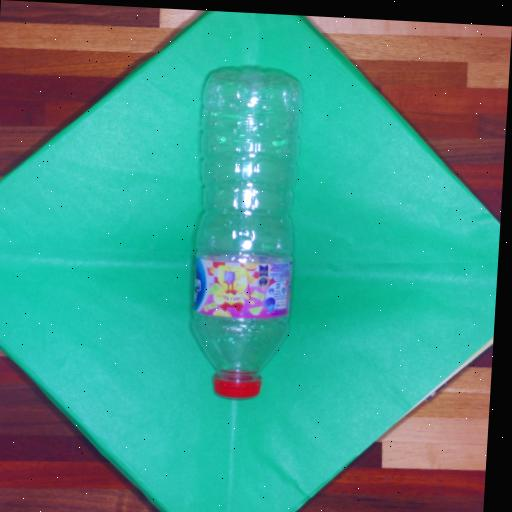bottle: (177, 64, 305, 402)
